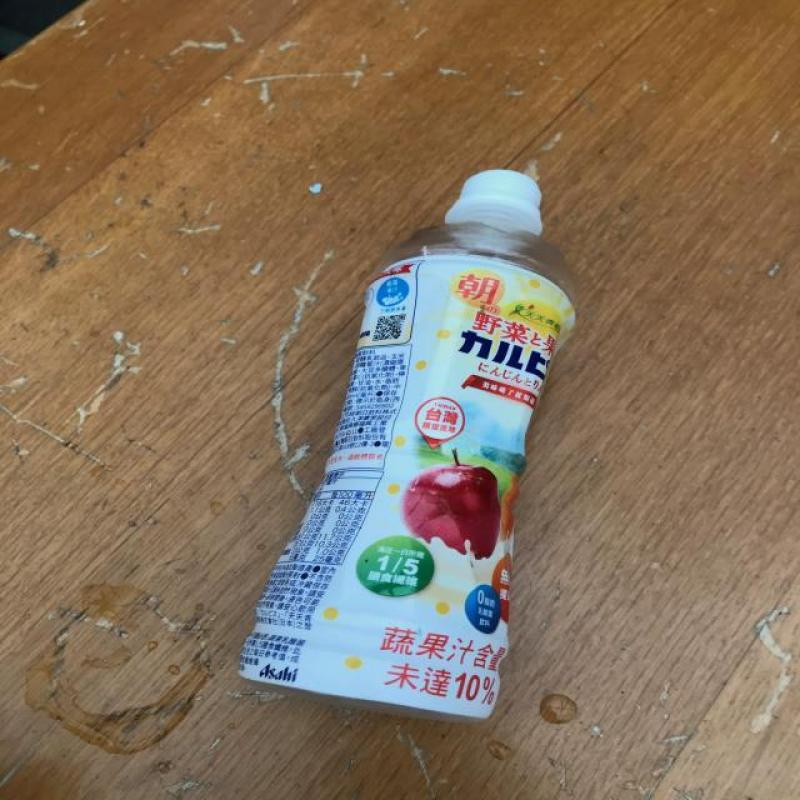botella: (238, 170, 578, 724)
